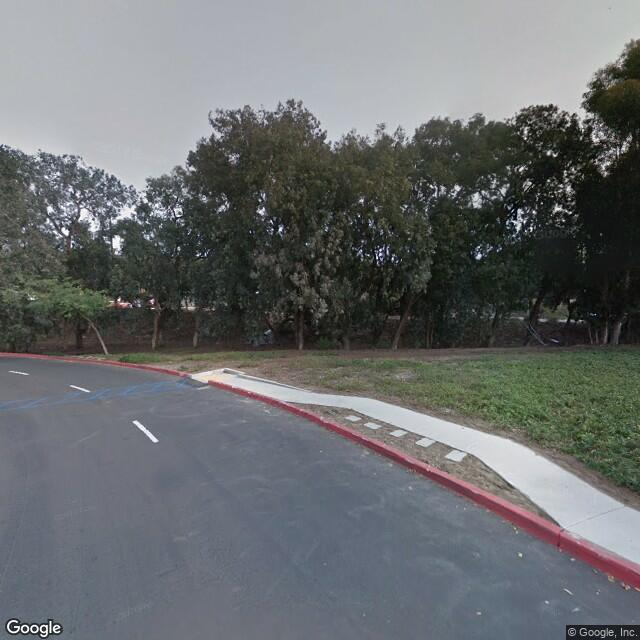litter: (620, 582, 635, 592), (573, 605, 589, 614), (567, 556, 580, 565), (513, 522, 522, 535), (405, 466, 419, 474), (264, 405, 271, 418), (514, 550, 523, 559), (608, 574, 616, 584), (543, 601, 553, 609), (562, 588, 574, 594), (476, 611, 487, 616), (594, 566, 599, 575)
